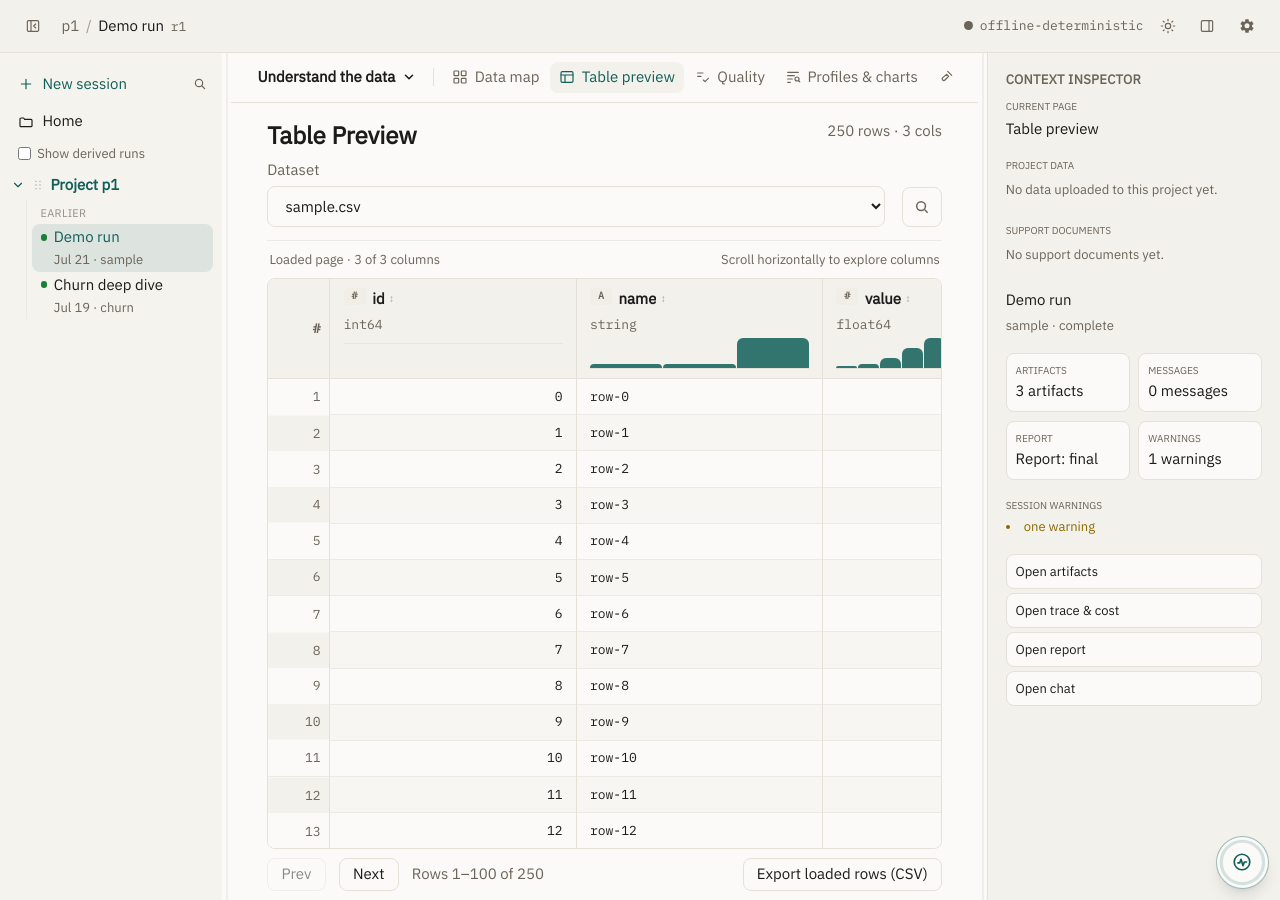
Test: Table Preview toolbar (integration) › keeps search collapsed by default and filters visible rows when opened
This screenshot has width=1280, height=900.
Expected: the text "row-0" is shown, [590,388,629,405]
Expected: the field labelled "Find in loaded rows" is not shown
Click the button named "Search loaded rows" at [922, 207], box [902,187,942,227]
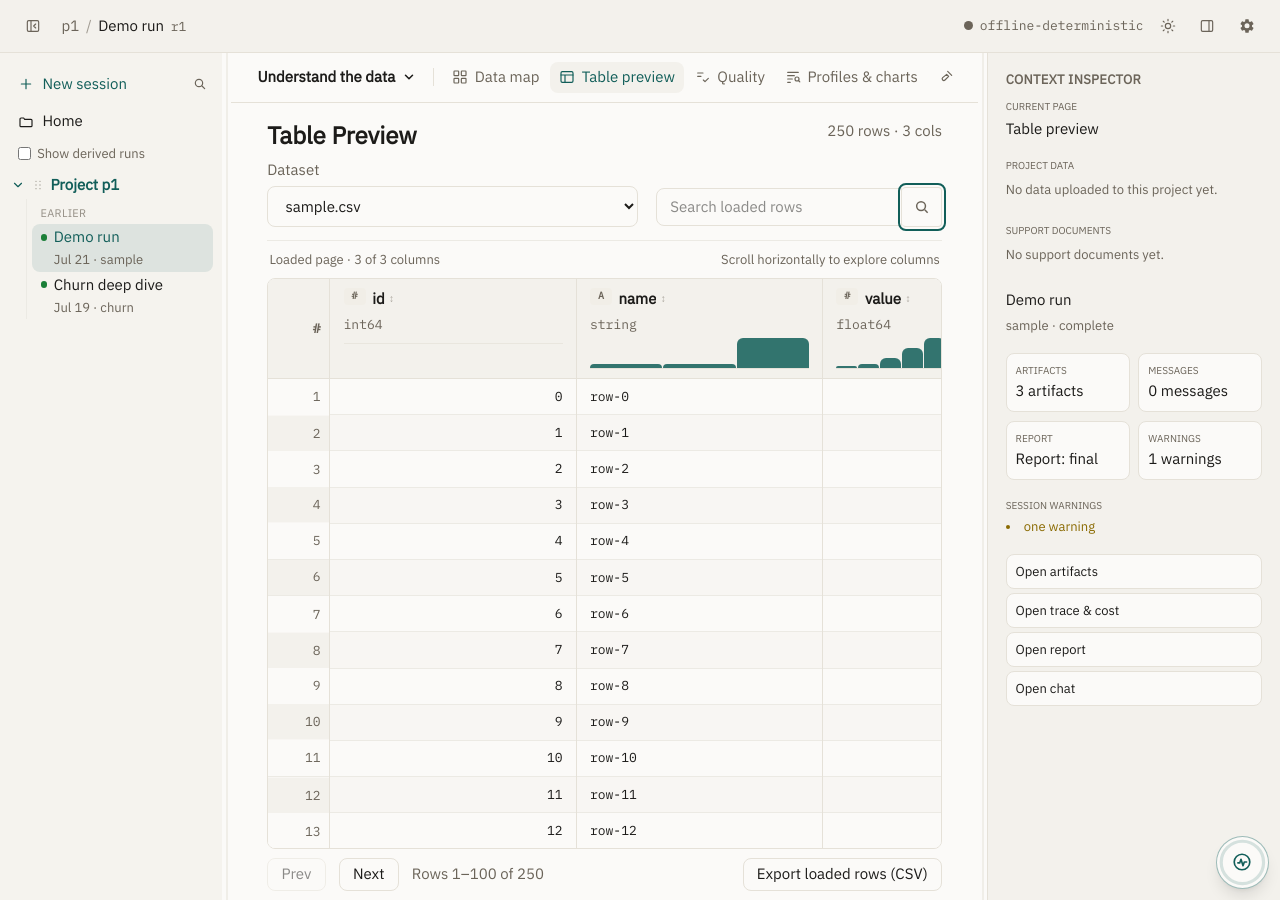
Type "row-1" into the search field named "Find in loaded rows" at [779, 207], box [656,188,902,226]
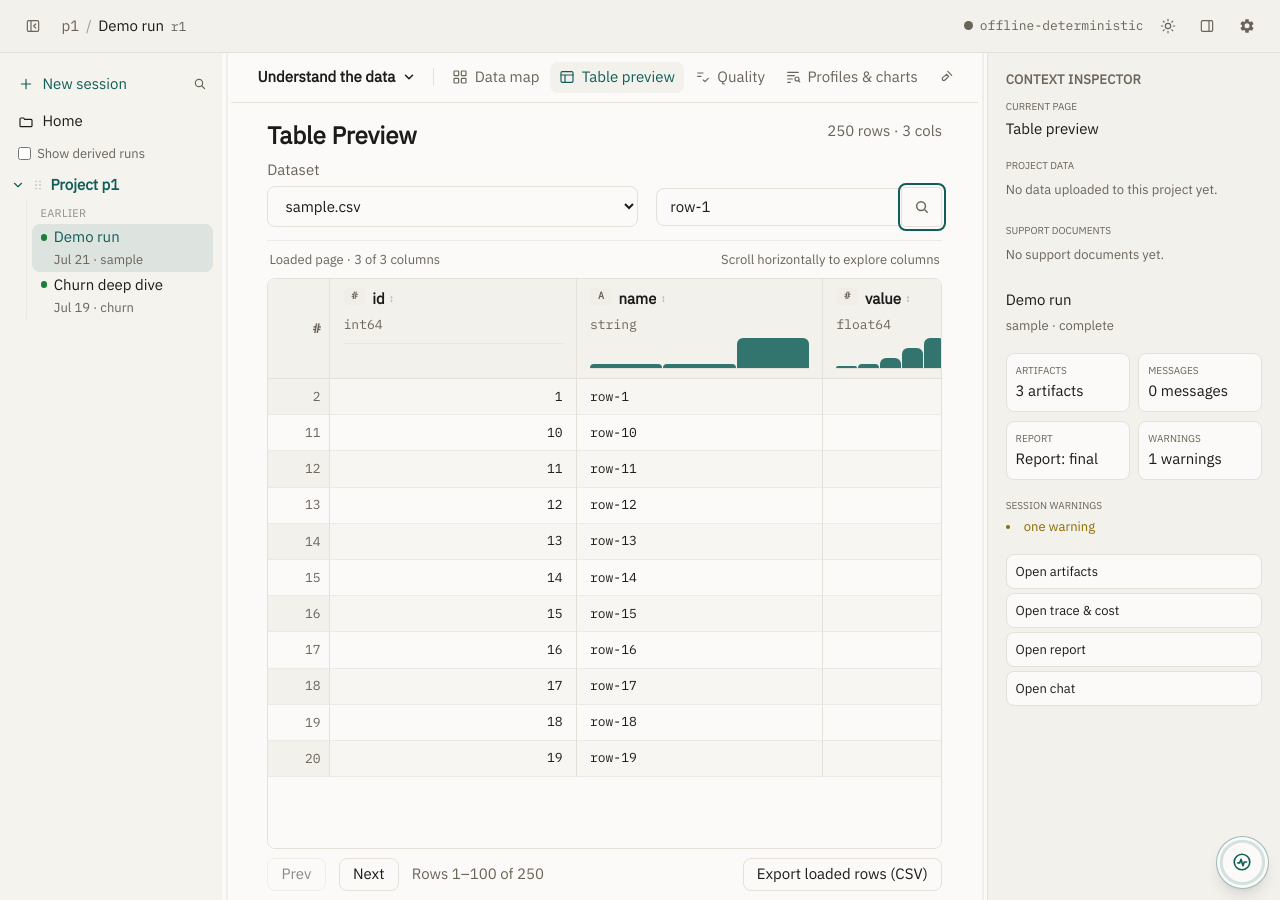
Expected: the text "row-0" is gone
Click the button named "Search loaded rows" at [922, 207], box [902,187,942,227]
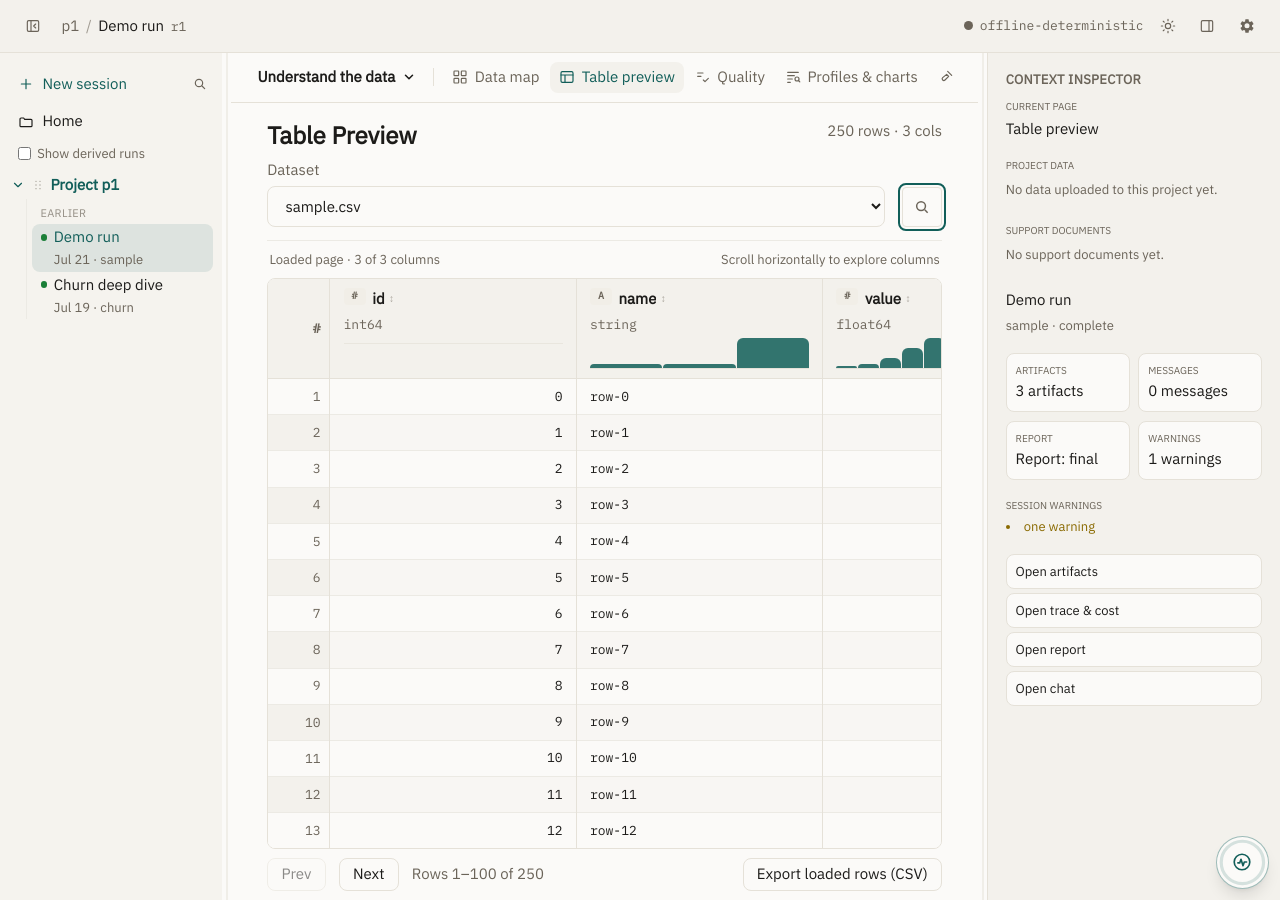
Expected: the text "row-0" is shown, [590,388,629,405]
